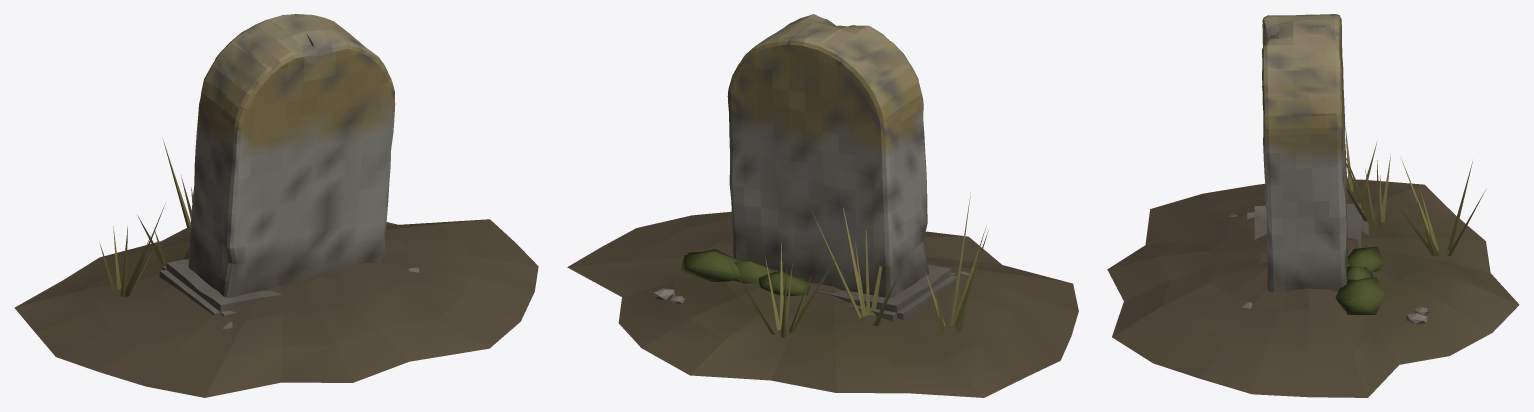
Rendered from milestone_v2_c.glb.
The picture shows the model from 3 angles, left to right: view 1: azimuth 30°, elevation 25°; view 2: azimuth 150°, elevation 25°; view 3: azimuth 270°, elevation 25°; orthographic projection.
Visible parts, largest first — view 1: hb_main; view 2: hb_main; view 3: hb_main.
Boxes of the visible parts, x1,y1,x2,y2 form: hb_main: [14, 14, 538, 397]; hb_main: [567, 14, 1078, 397]; hb_main: [1107, 14, 1519, 397].
Size of the model in its own units: 0.8675 by 0.5671 by 0.6796.
